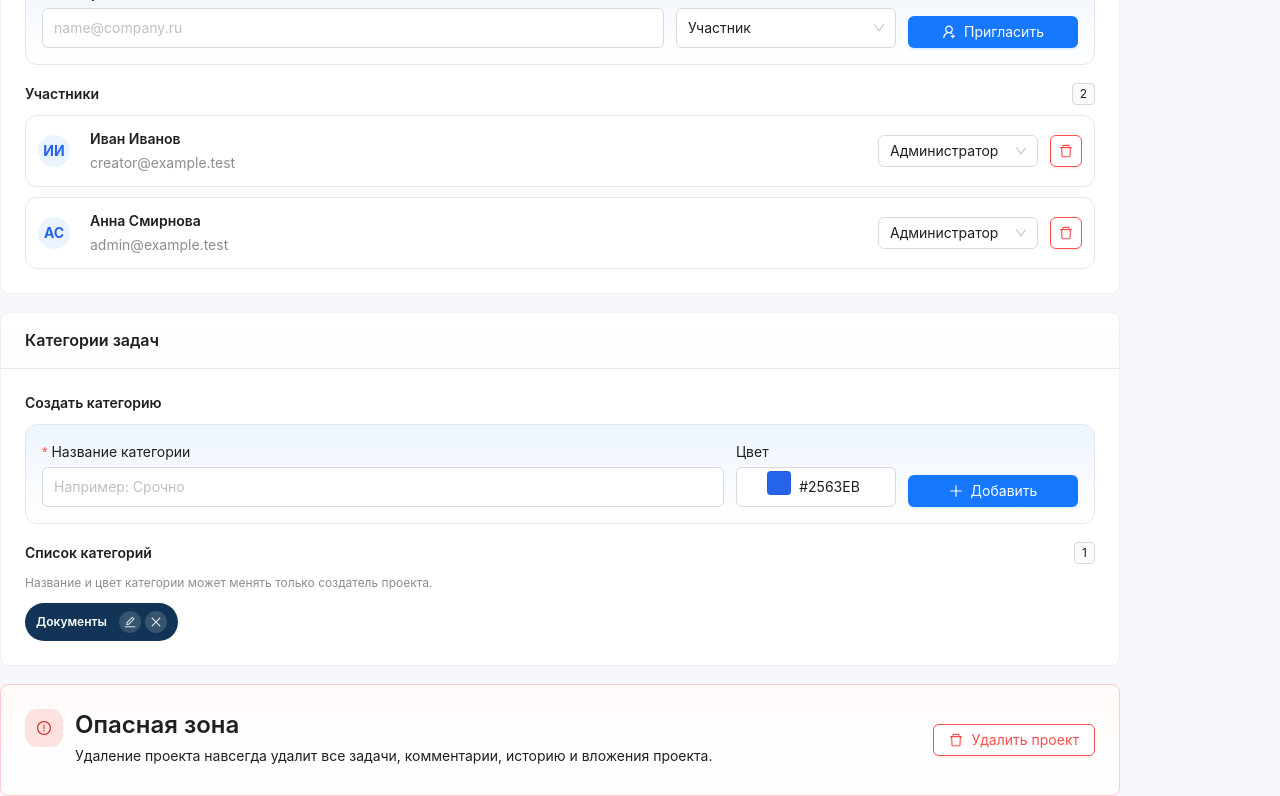
Test: category editing › lets the project creator rename a category while preserving its selected color
(page scrolled)
Click the button named "Редактировать категорию Документы": click(130, 622) [119,611,141,633]
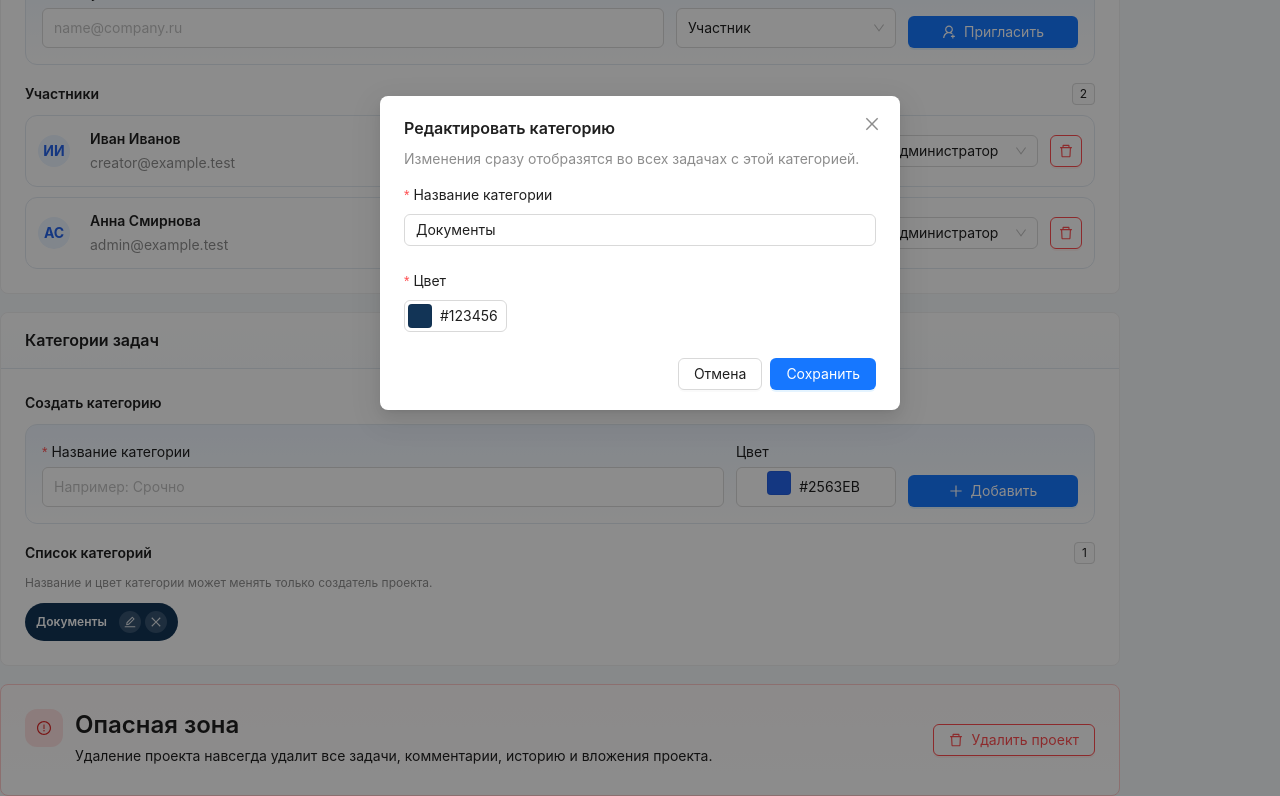
Replace the text in the field labelled "Название категории" with "Договоры": (640, 230) [404,214,876,246]
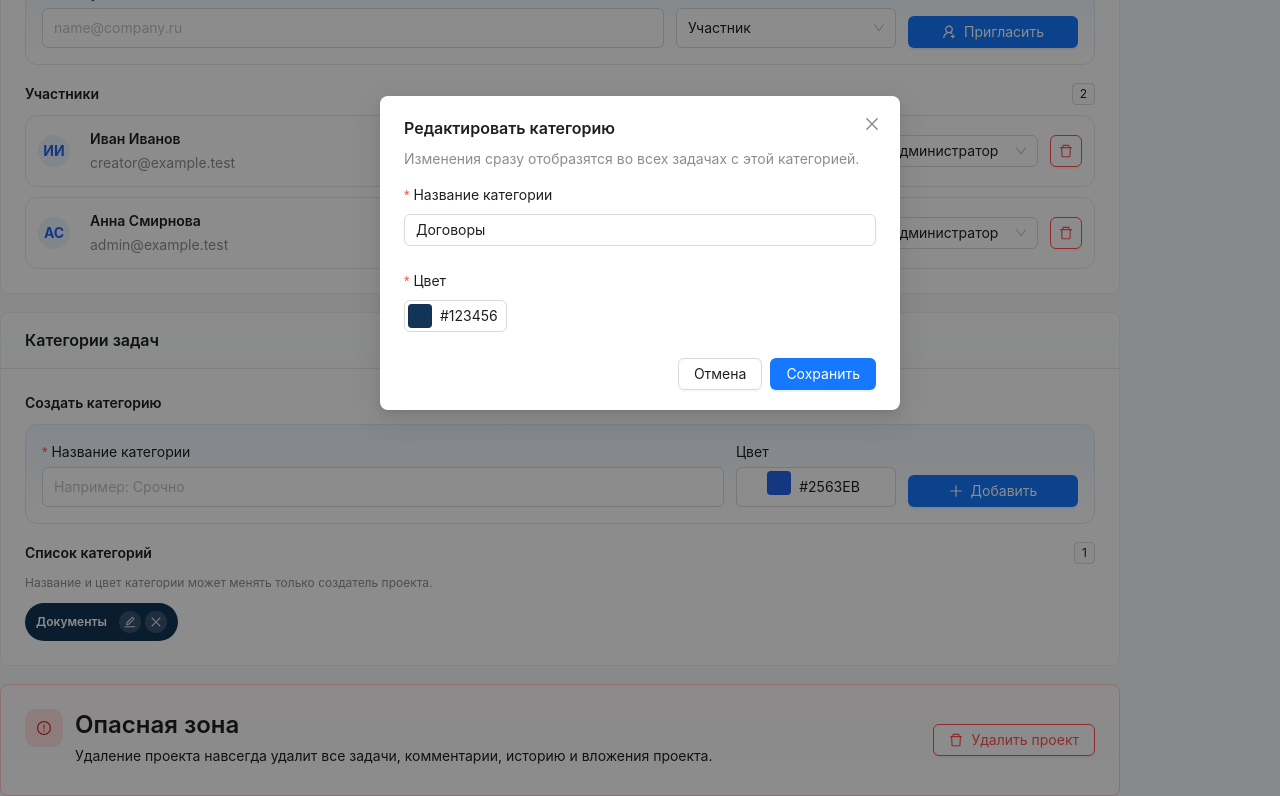
Click the button "Сохранить": click(823, 374) [770,358,876,390]
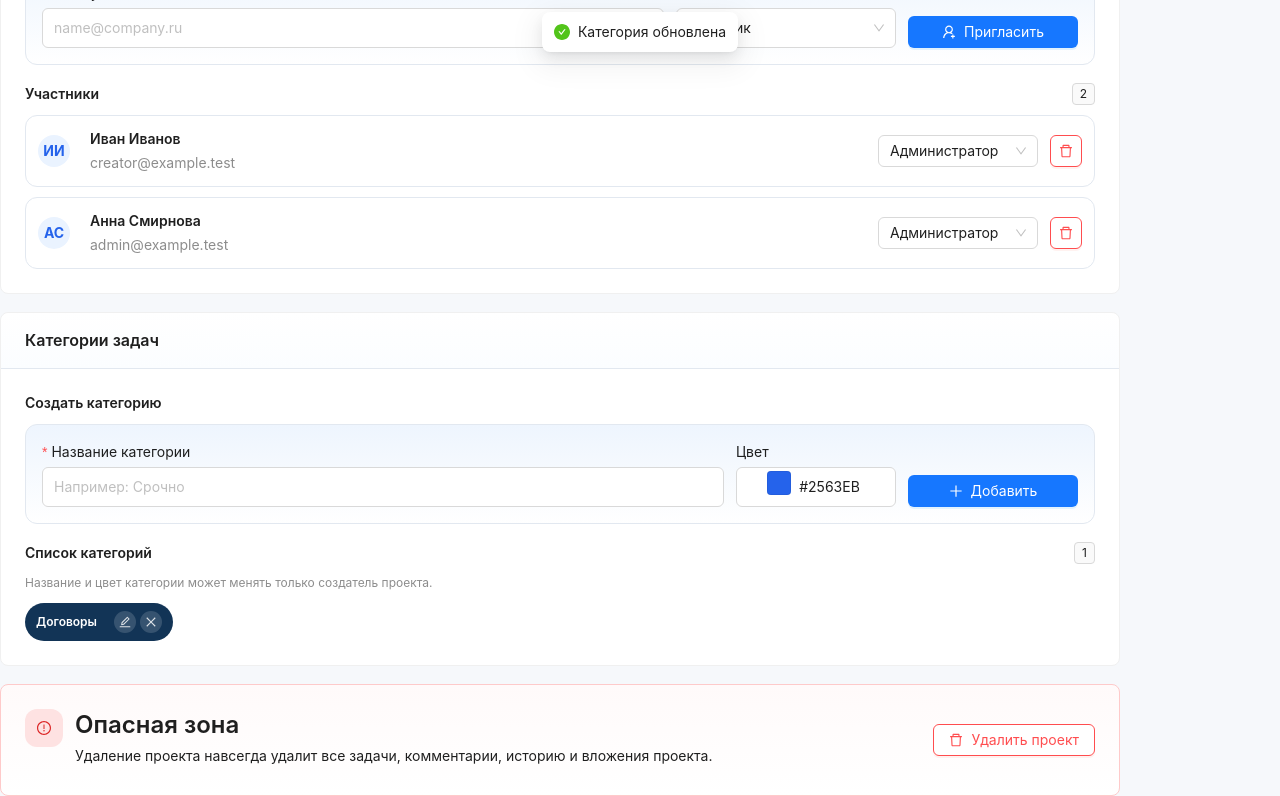
Now the button named "Редактировать категорию Договоры" is shown, box [114,611,136,633]
